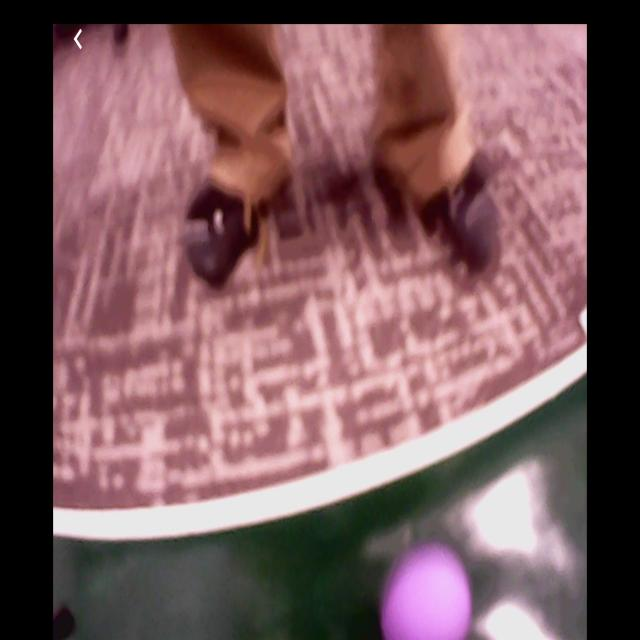ball: (382, 545, 469, 640)
